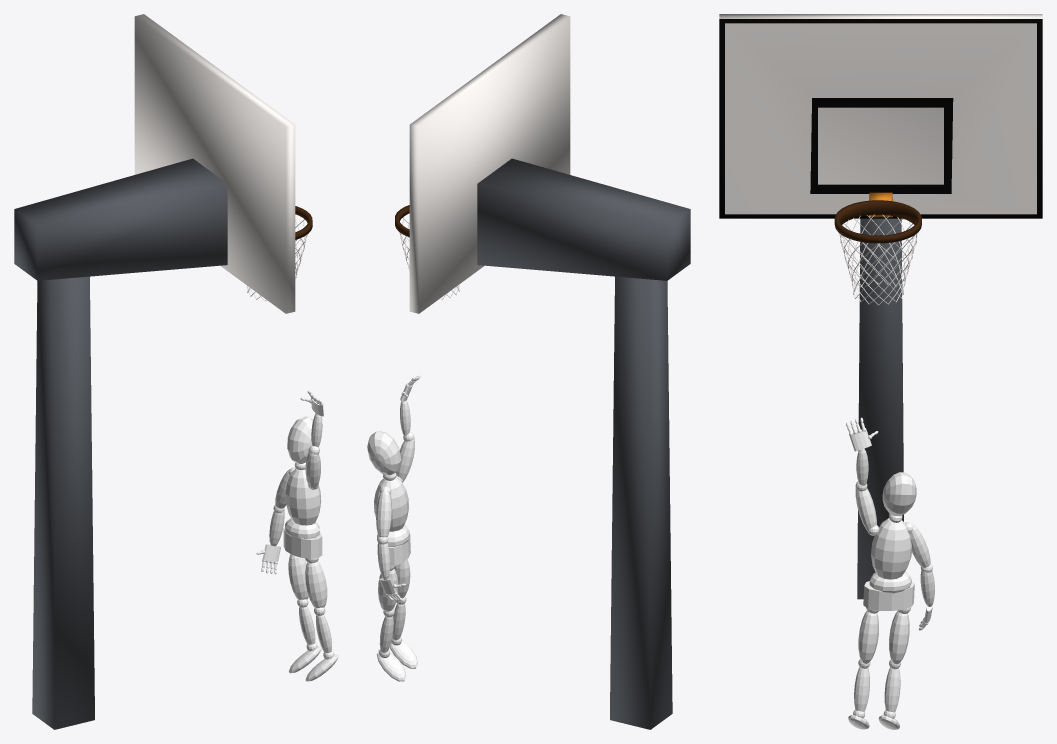
Rendered from Basket_Hoop.glb.
3 views of the same model, side by side, from view 1: azimuth 30°, elevation 25°; view 2: azimuth 150°, elevation 25°; view 3: azimuth 270°, elevation 25° (orthographic). The views are drawn at different scales.
Parts seen in each view (by area): view 1: uploads files 5751296 BASKETBALL+HOOP, group1369890431; view 2: uploads files 5751296 BASKETBALL+HOOP, group1369890431; view 3: uploads files 5751296 BASKETBALL+HOOP, group1369890431.
Boxes of the visible parts, <box> form: uploads files 5751296 BASKETBALL+HOOP: <box>14,14,312,729</box>; group1369890431: <box>256,390,338,681</box>; uploads files 5751296 BASKETBALL+HOOP: <box>395,14,690,729</box>; group1369890431: <box>367,375,420,681</box>; uploads files 5751296 BASKETBALL+HOOP: <box>719,14,1042,599</box>; group1369890431: <box>846,417,934,729</box>.
Size of the model in its own units: 2.4 by 4.79 by 2.09.
